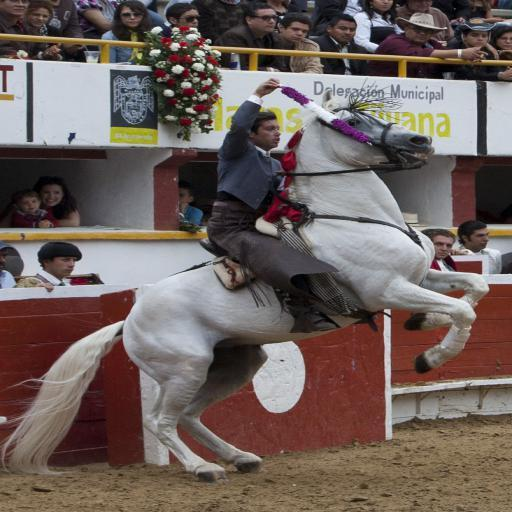horse: (0, 72, 494, 485)
